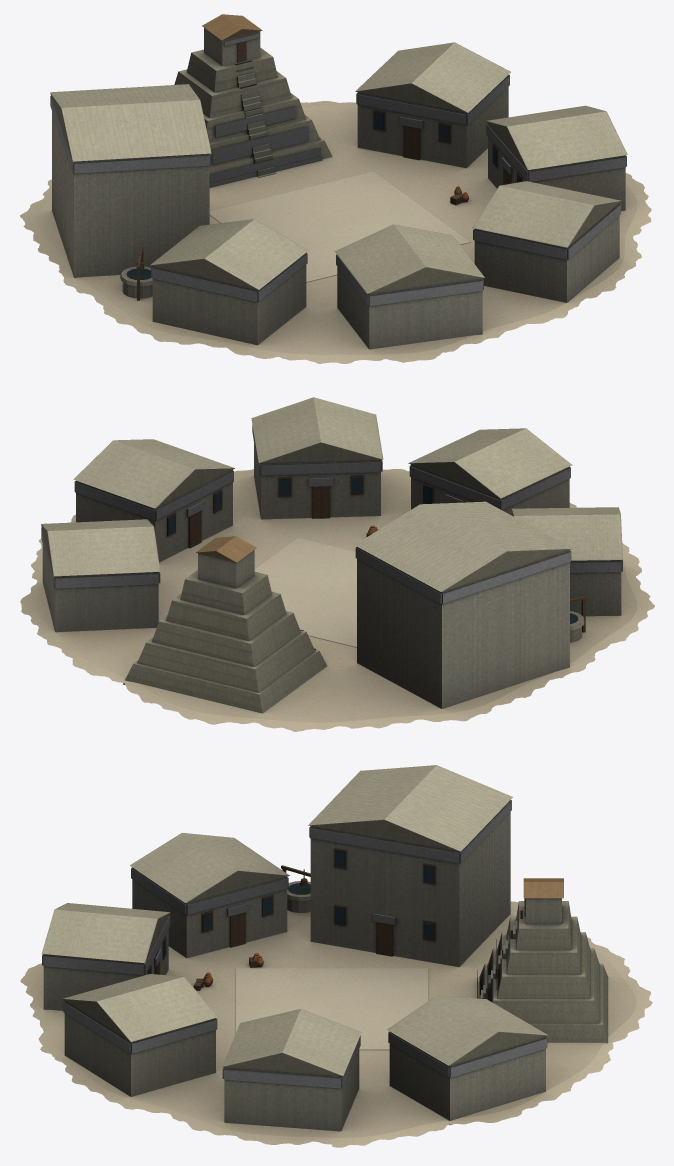
Rendered from classical-town-small-a-americas.glb.
3 renders of one model, top to bottom at view 1: azimuth 30°, elevation 25°; view 2: azimuth 150°, elevation 25°; view 3: azimuth 270°, elevation 25°, orthographic.
Visible parts, largest first — view 1: LOD0; view 2: LOD0; view 3: LOD0.
Part boxes in pixels (box(x1,y1,x2,y2)): LOD0: box(20, 14, 651, 363); LOD0: box(20, 397, 654, 731); LOD0: box(20, 765, 652, 1147).
Size of what is drawn, in the model's own units: 3.95 by 0.962 by 4.03.
3 materials, 3 textured.
